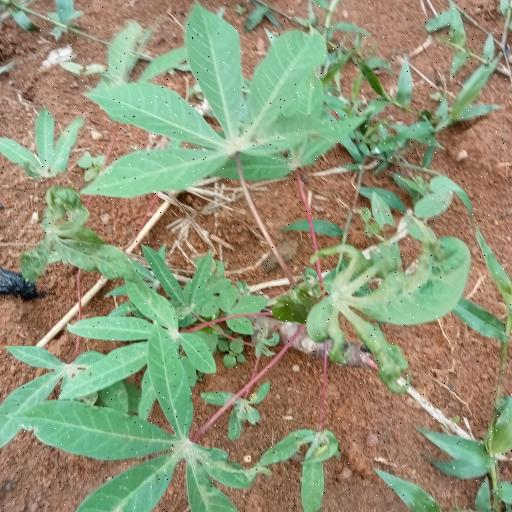Cassava_Mosaic: (345, 162, 358, 184)
